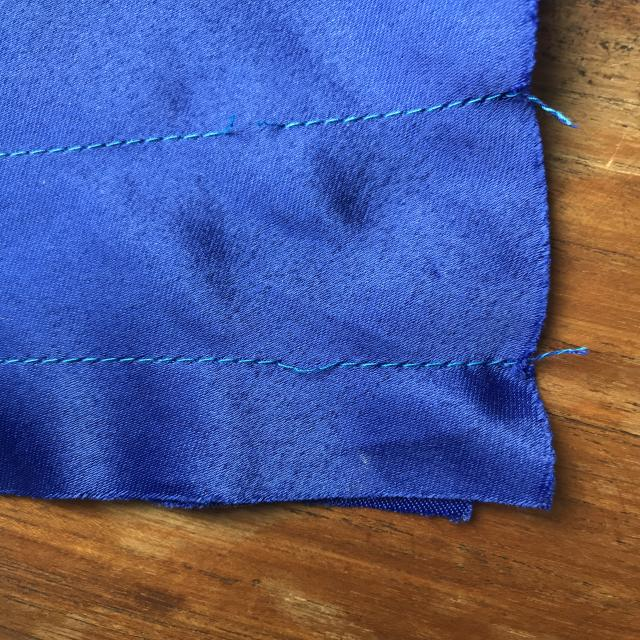broken: (195, 110, 293, 166)
good: (67, 338, 186, 387)
skip: (258, 334, 364, 402)
